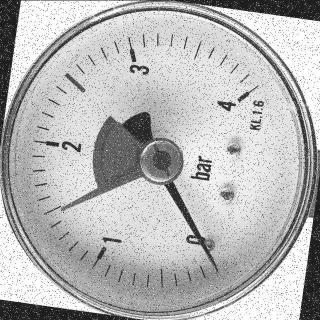gauge: (0, 0, 320, 320), (137, 137, 183, 185), (195, 246, 233, 280), (224, 83, 258, 113), (208, 258, 222, 275), (57, 202, 71, 216)
